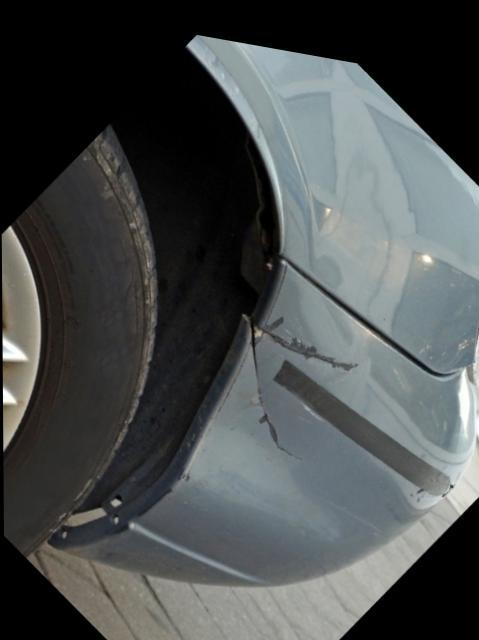crack: (248, 313, 356, 452)
